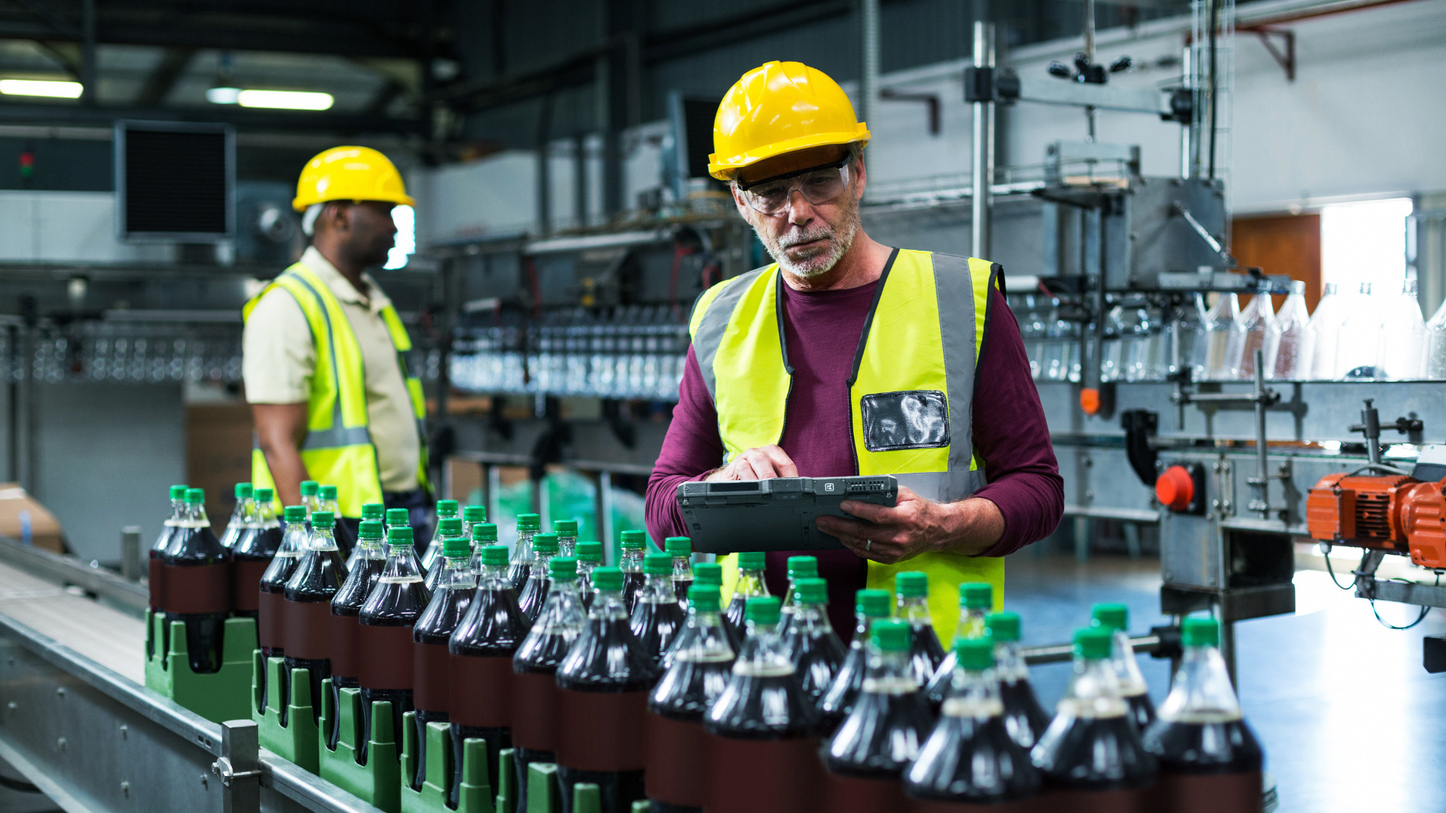Casco de seguridad: (705, 64, 880, 176), (283, 139, 428, 219)
